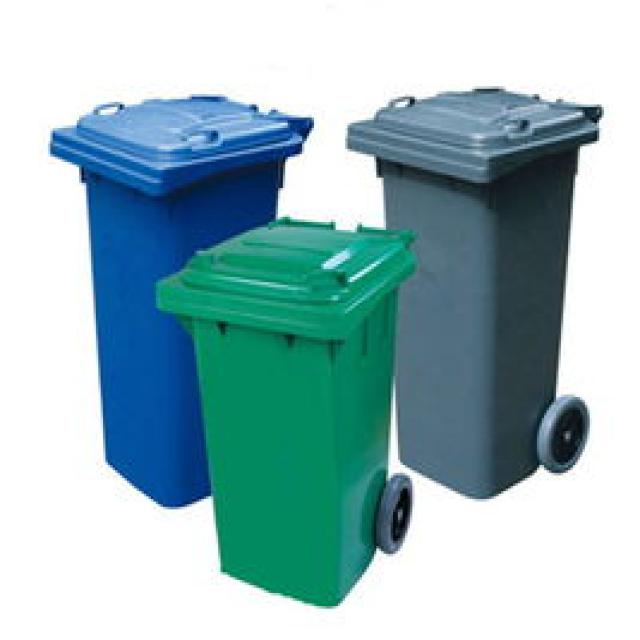garbage_bin: (50, 94, 312, 507), (340, 84, 602, 496), (151, 214, 417, 604)
